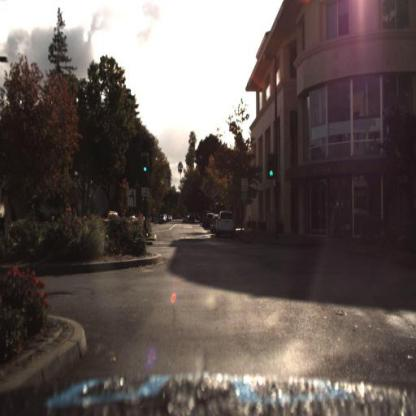car: (217, 210, 238, 240)
pedestrian: (333, 194, 343, 238)
trafficLight: (140, 157, 150, 183), (269, 147, 279, 173)
trafficLight-Green: (143, 153, 151, 178)
